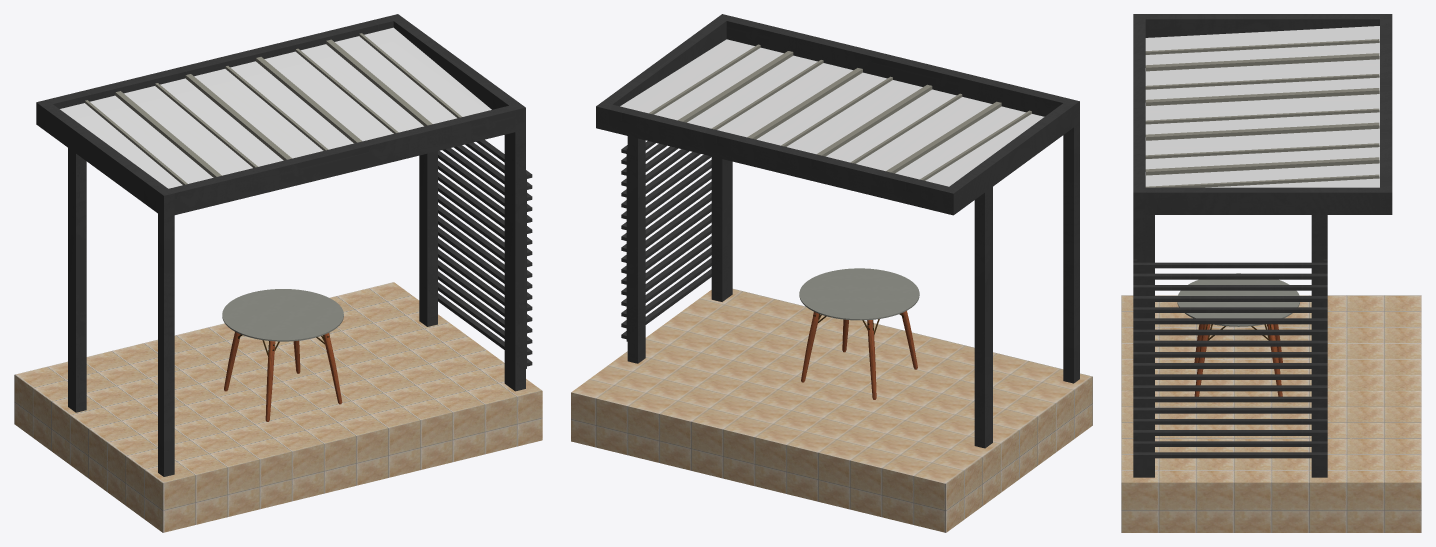
The model's file is hyg27-g_matblack.fbx.
The picture shows the model from 3 angles, left to right: view 1: azimuth 30°, elevation 25°; view 2: azimuth 150°, elevation 25°; view 3: azimuth 270°, elevation 25°; orthographic projection. The views are drawn at different scales.
Visible parts, largest first — view 1: hyg27-g_matblackファニチャーなし.001; view 2: hyg27-g_matblackファニチャーなし.001; view 3: hyg27-g_matblackファニチャーなし.001.
Boxes of the visible parts, left/top/right/bottom form: hyg27-g_matblackファニチャーなし.001: left=14, top=14, right=542, bottom=532; hyg27-g_matblackファニチャーなし.001: left=571, top=14, right=1092, bottom=532; hyg27-g_matblackファニチャーなし.001: left=1121, top=14, right=1421, bottom=532.
Size of the model in its own units: 360 by 300 by 244.
Materials: 11 (9 with a texture image).
